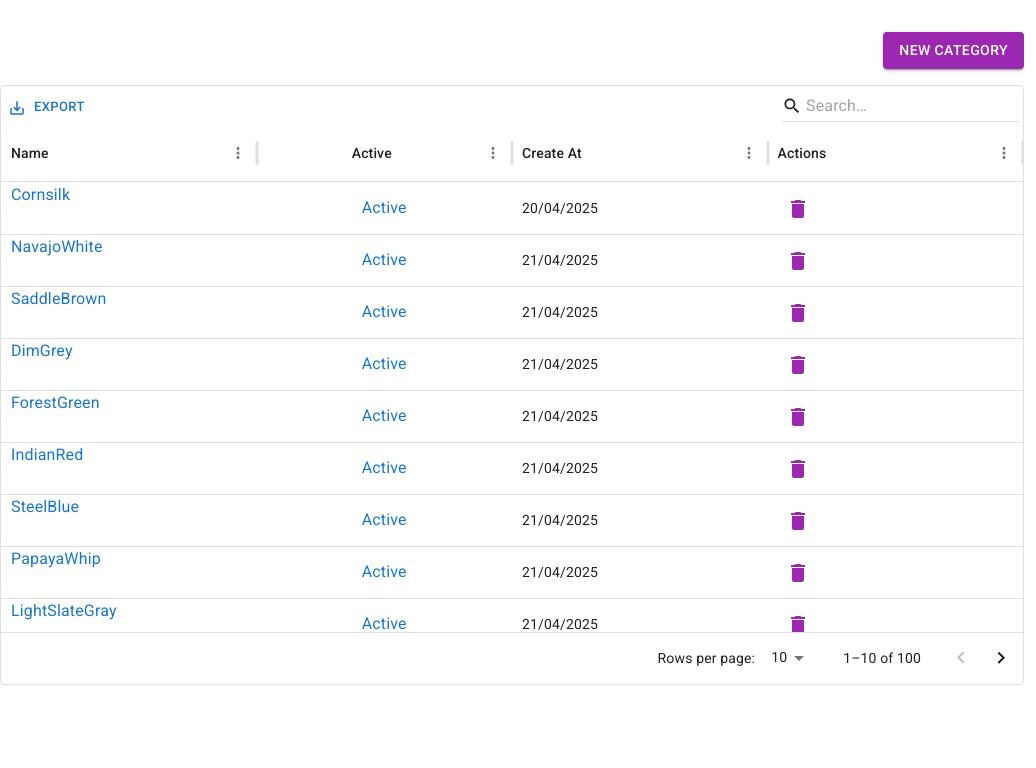
Test ListCategory page › should handle delete category error
Expected: the text "Cornsilk" is shown, [11,184,70,204]
What coordinates should you click on to do the following:
click the button with test id "delete-category-button" in the row of "Cornsilk"
I would click on:
 (798, 209)
Its box is [778,189,818,229].
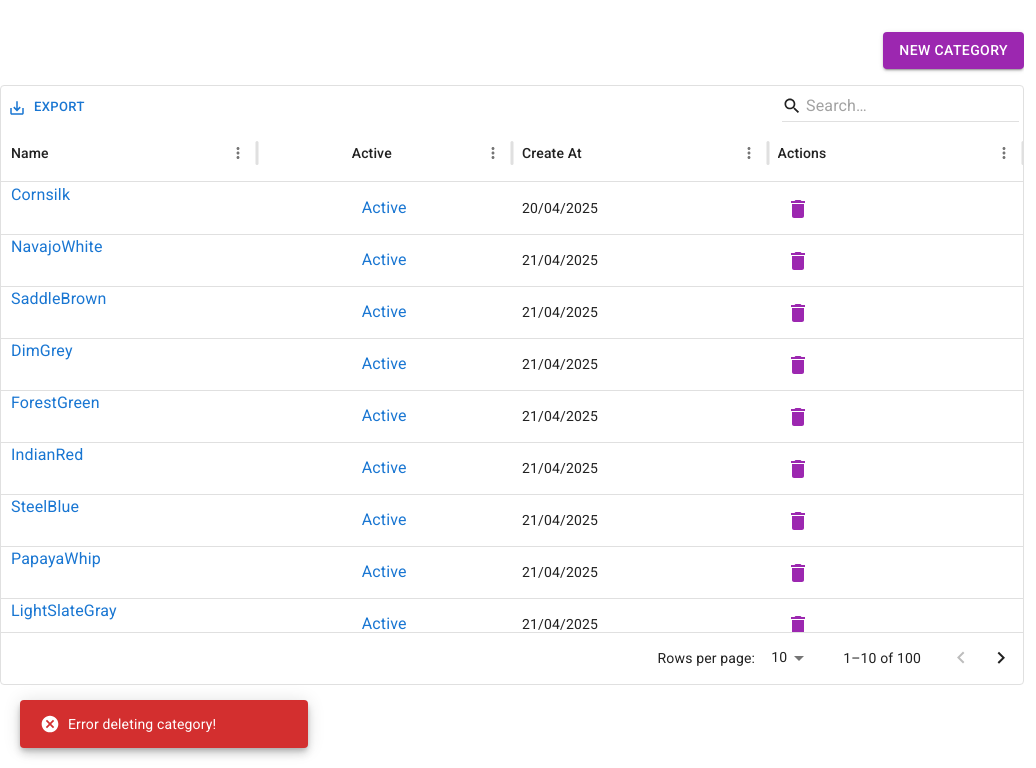
Result: the text "Error deleting category!" is shown at [40,714,216,734]
